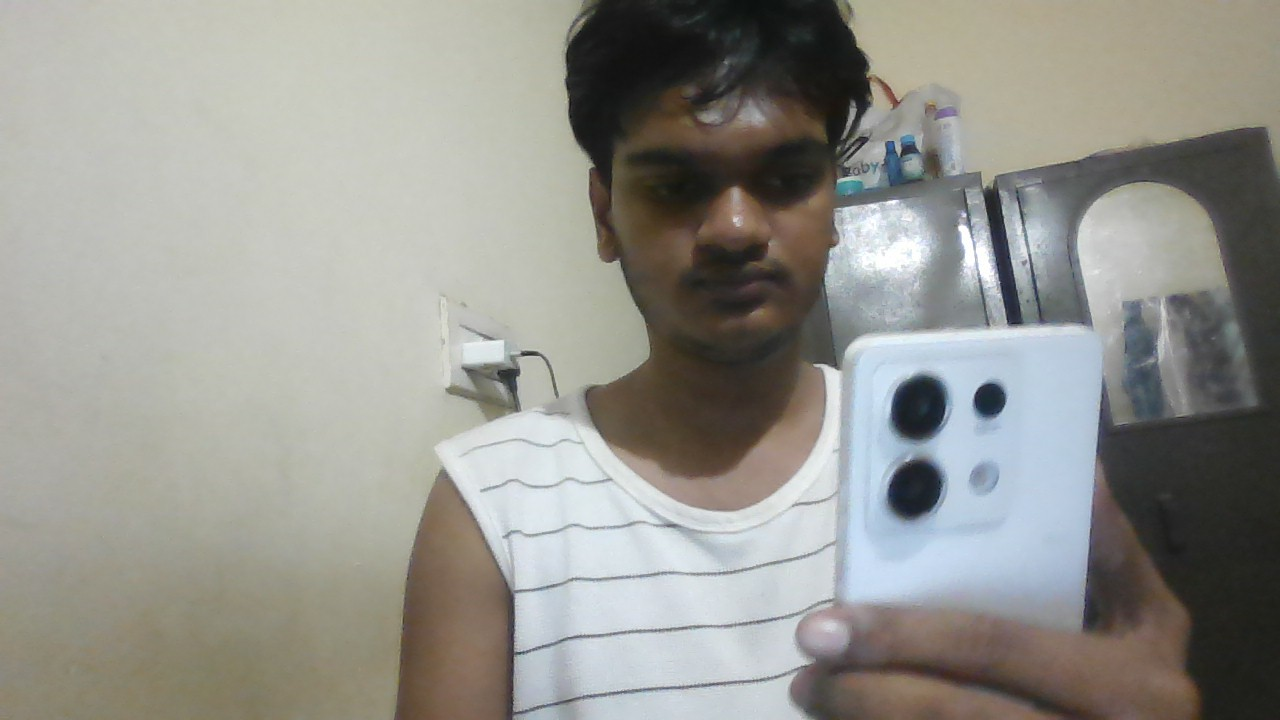phone: (839, 328, 1107, 593)
